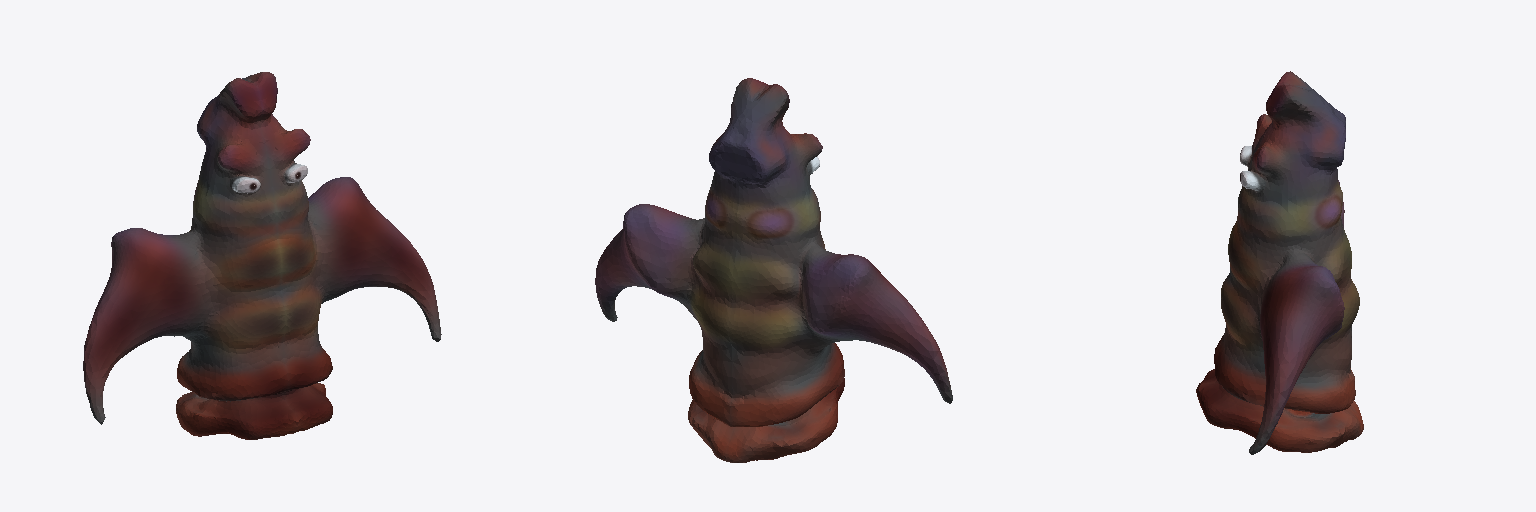
3 views of the same model, side by side, from view 1: azimuth 30°, elevation 25°; view 2: azimuth 150°, elevation 25°; view 3: azimuth 270°, elevation 25° (orthographic).
Visible parts, largest first — view 1: rocket; view 2: rocket; view 3: rocket.
Boxes of the visible parts, x1,y1,x2,y2 form: rocket: [83, 72, 441, 439]; rocket: [595, 78, 952, 462]; rocket: [1196, 71, 1363, 454].
Bounding box in the file's own units: 6.04 × 5.83 × 2.51.
1 materials, 1 textured.